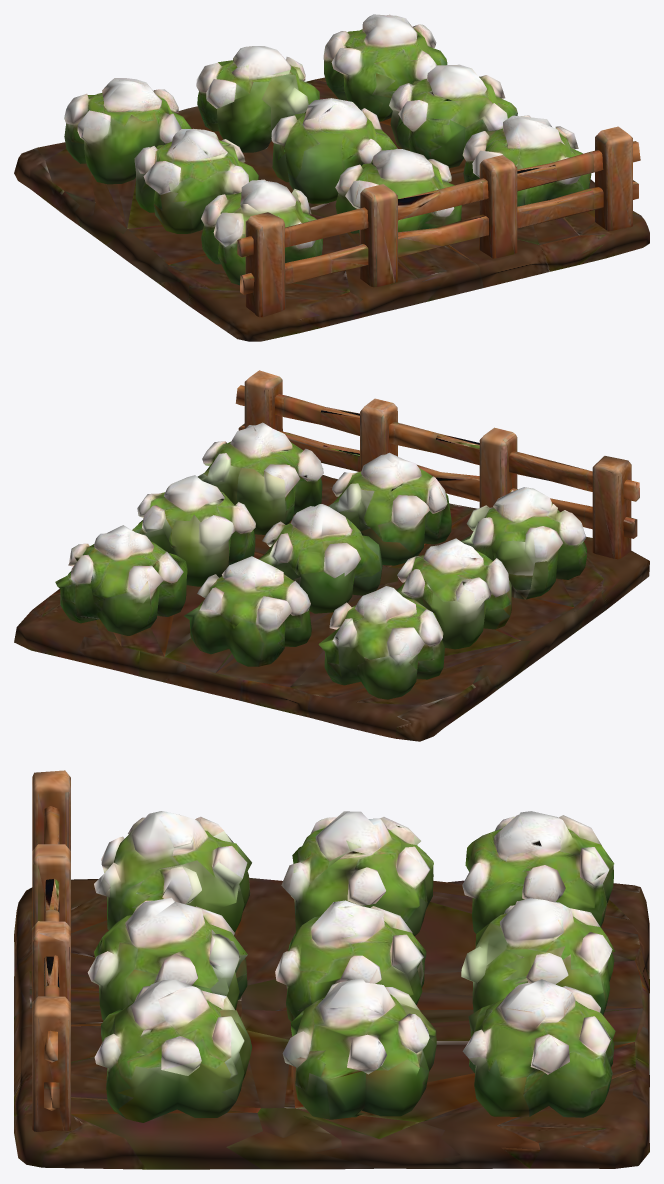
File: cotton.glb
3 views of the same model, one above another, from view 1: azimuth 30°, elevation 25°; view 2: azimuth 150°, elevation 25°; view 3: azimuth 270°, elevation 25° (orthographic). The views are drawn at different scales.
Visible parts, largest first — view 1: geometry_0; view 2: geometry_0; view 3: geometry_0.
Boxes of the visible parts, x1,y1,x2,y2 form: geometry_0: (14, 14, 649, 341); geometry_0: (14, 370, 649, 741); geometry_0: (14, 770, 649, 1169).
Bounding box in the file's own units: 0.9561 × 0.2422 × 0.9527.
1 material, 1 textured.
